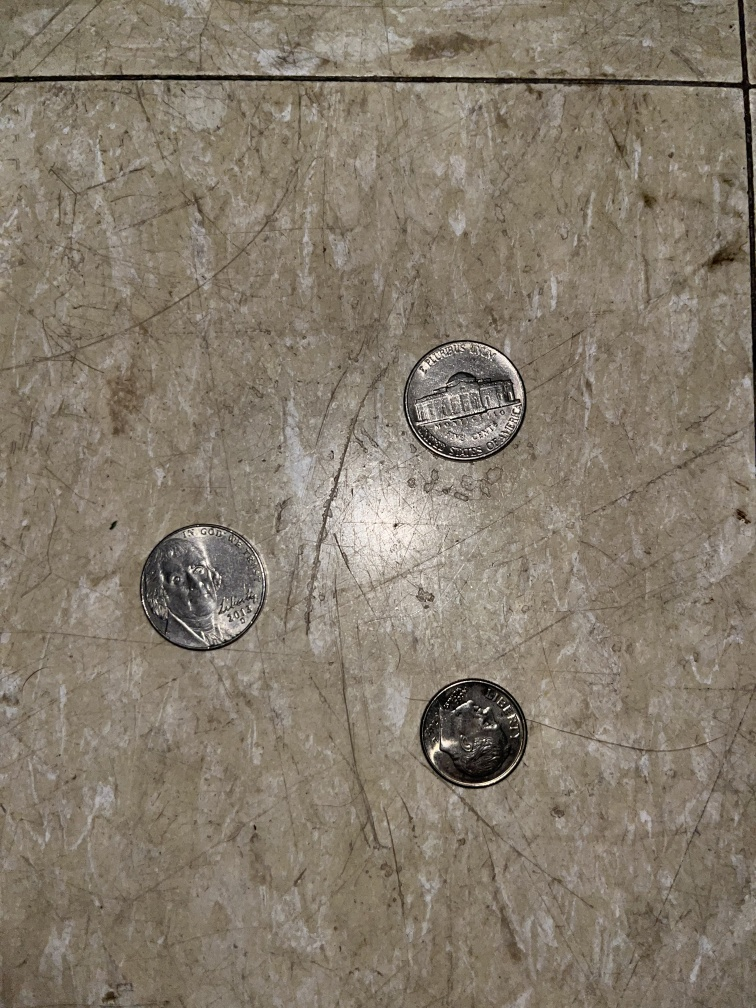dime: (409, 672, 535, 794)
nickel: (131, 517, 273, 663), (394, 335, 533, 470)
